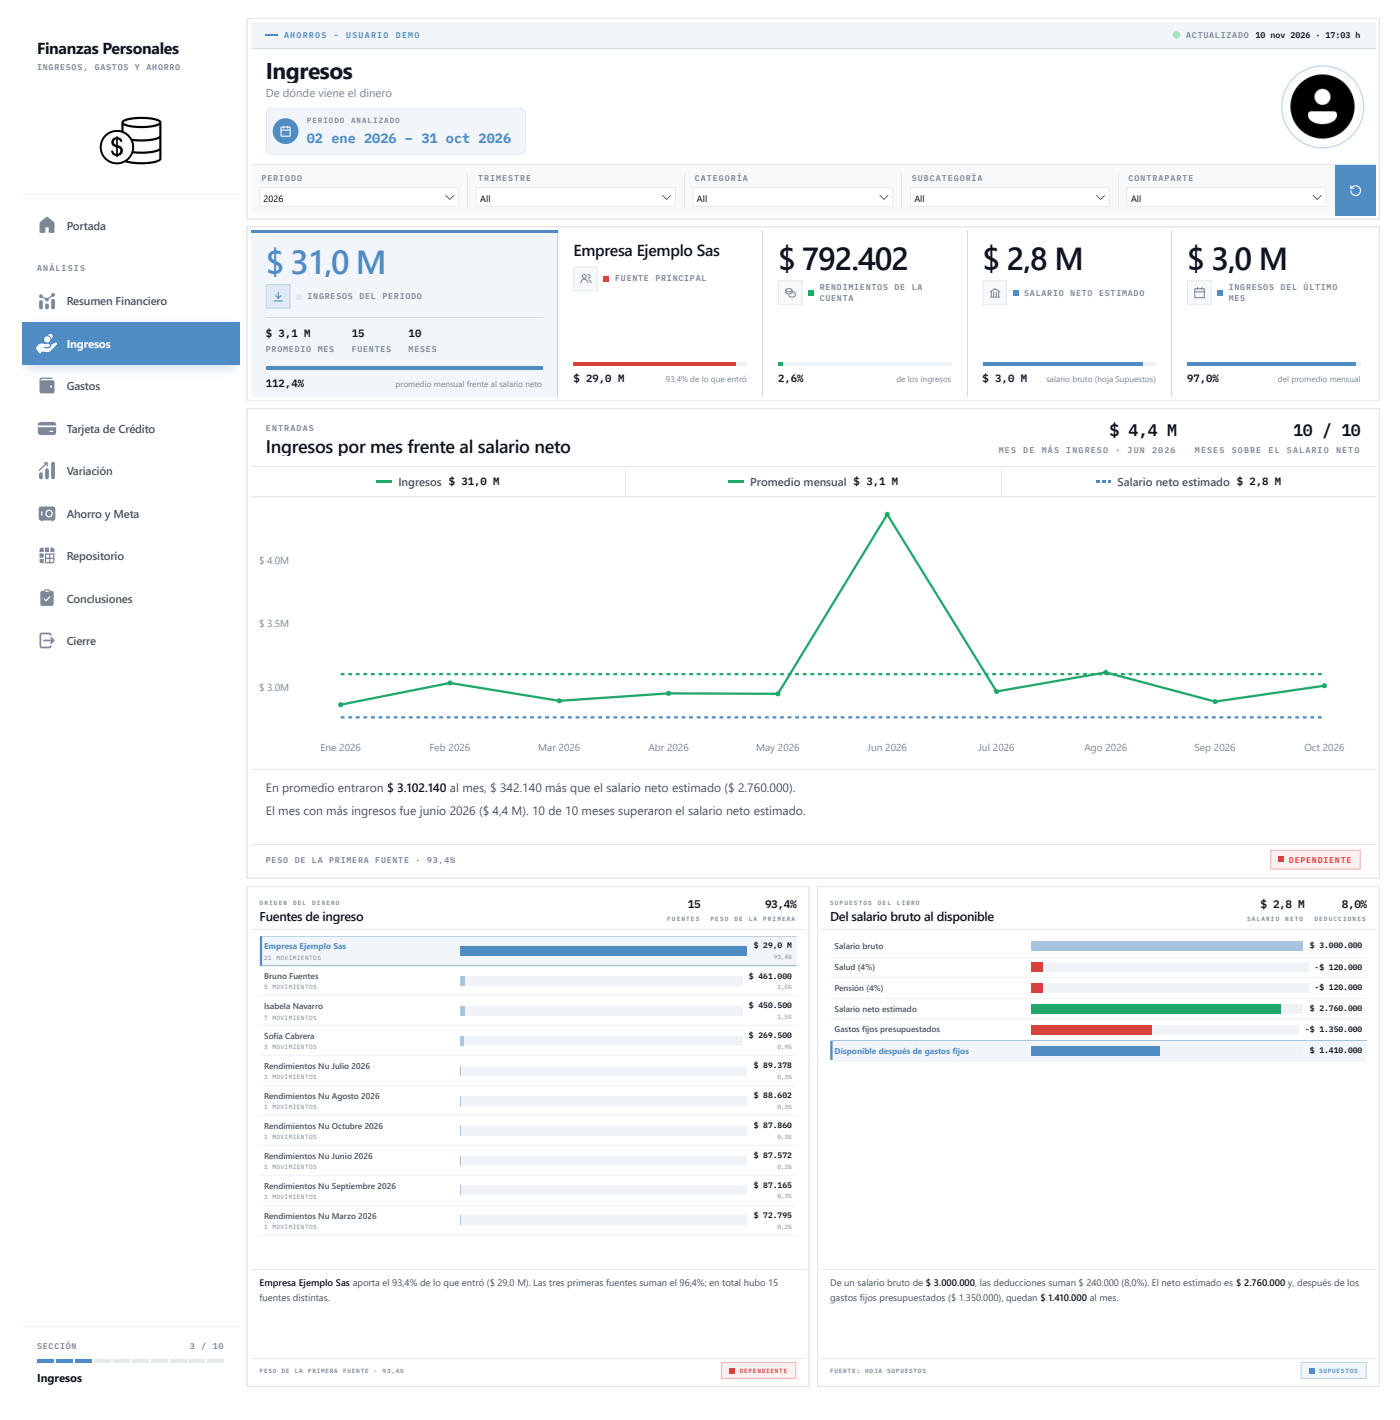

What the dashboard file says about the page in this screenshot:
{"tool":"powerbi","page":{"name":"Ingresos","canvas":[1800,1825],"ordinal":2},"visuals":[{"type":"shape","title":"Contenedor","box":[302,0,1495,265],"z":1010},{"type":"shape","title":"Contenedor","box":[302,275,1495,230],"z":1020},{"type":"shape","title":"Contenedor","box":[302,515,1495,620],"z":1030},{"type":"shape","title":"Contenedor","box":[302,1145,742,660],"z":1040},{"type":"shape","title":"Contenedor","box":[1055,1145,742,660],"z":1050},{"type":"htmlContent443BE3AD55E043BF878BED274D3A6855","fields":{"content":["Medidas.NAV Rail Vertical HTML"]},"box":[0,0,297,1825],"z":2010},{"type":"htmlContent443BE3AD55E043BF878BED274D3A6855","fields":{"content":["Medidas.NAV Banner Filtros HTML"]},"box":[302,0,1495,265],"z":2020},{"type":"htmlContent443BE3AD55E043BF878BED274D3A6855","fields":{"content":["Medidas.ING KPI Cards HTML"]},"box":[302,275,1495,230],"z":2030},{"type":"htmlContent443BE3AD55E043BF878BED274D3A6855","fields":{"content":["Medidas.ING Ingresos Mensuales Marco HTML"]},"box":[302,515,1495,470],"z":2040},{"type":"htmlContent443BE3AD55E043BF878BED274D3A6855","fields":{"content":["Medidas.ING Ingresos Mensuales Texto HTML"]},"box":[302,985,1495,150],"z":2050},{"type":"htmlContent443BE3AD55E043BF878BED274D3A6855","fields":{"content":["Medidas.ING Fuentes de Ingreso HTML"]},"box":[302,1145,742,660],"z":2060},{"type":"htmlContent443BE3AD55E043BF878BED274D3A6855","fields":{"content":["Medidas.ING Salario Bruto a Neto HTML"]},"box":[1055,1145,742,660],"z":2070},{"type":"lineChart","fields":{"Category":["Calendario.Mes Año"],"Y":["Medidas.Serie Ingresos","Medidas.Serie Ingreso Promedio","Medidas.Serie Salario Neto"]},"box":[312,635,1475,345],"z":3010},{"type":"slicer","fields":{"Values":["Calendario.Año","Calendario.Mes"]},"box":[308,212.9,284.2,58.6],"z":5010},{"type":"slicer","fields":{"Values":["Calendario.Trimestre Año"]},"box":[594.2,212.9,284.2,58.6],"z":5020},{"type":"slicer","fields":{"Values":["Categorias.Categoría"]},"box":[880.4,212.9,284.2,58.6],"z":5030},{"type":"slicer","fields":{"Values":["Categorias.Subcategoría"]},"box":[1166.6,212.9,284.2,58.6],"z":5040},{"type":"slicer","fields":{"Values":["Movimientos.Contraparte"]},"box":[1452.8,212.9,284.2,58.6],"z":5050},{"type":"shape","box":[0,0,297,245],"z":6010},{"type":"shape","box":[0,301,297,44],"z":6020},{"type":"shape","box":[0,849,297,976],"z":6030},{"type":"shape","box":[285,0,12,1825],"z":6040},{"type":"shape","box":[302,0,1495,193],"z":6050},{"type":"actionButton","box":[1738,193,54,67],"z":7010},{"type":"actionButton","box":[0,245,285,56],"z":7020},{"type":"actionButton","box":[0,345,285,56],"z":7030},{"type":"actionButton","box":[0,401,285,56],"z":7040},{"type":"actionButton","box":[0,457,285,56],"z":7050},{"type":"actionButton","box":[0,513,285,56],"z":7060},{"type":"actionButton","box":[0,569,285,56],"z":7070},{"type":"actionButton","box":[0,625,285,56],"z":7070},{"type":"actionButton","box":[0,681,285,56],"z":7080},{"type":"actionButton","box":[0,737,285,56],"z":7090},{"type":"actionButton","box":[0,793,285,56],"z":7100}]}

Visuals, with their boxes in screenshot pixels (x1, y1, x2, y2), scaled from the page's 1800x1825 canvas onto the 1400x1420 screenshot:
"Contenedor" shape: (235, 0, 1398, 206)
"Contenedor" shape: (235, 214, 1398, 393)
"Contenedor" shape: (235, 401, 1398, 883)
"Contenedor" shape: (235, 891, 812, 1404)
"Contenedor" shape: (821, 891, 1398, 1404)
htmlContent443BE3AD55E043BF878BED274D3A6855 - Medidas.NAV Rail Vertical HTML: (0, 0, 231, 1419)
htmlContent443BE3AD55E043BF878BED274D3A6855 - Medidas.NAV Banner Filtros HTML: (235, 0, 1398, 206)
htmlContent443BE3AD55E043BF878BED274D3A6855 - Medidas.ING KPI Cards HTML: (235, 214, 1398, 393)
htmlContent443BE3AD55E043BF878BED274D3A6855 - Medidas.ING Ingresos Mensuales Marco HTML: (235, 401, 1398, 766)
htmlContent443BE3AD55E043BF878BED274D3A6855 - Medidas.ING Ingresos Mensuales Texto HTML: (235, 766, 1398, 883)
htmlContent443BE3AD55E043BF878BED274D3A6855 - Medidas.ING Fuentes de Ingreso HTML: (235, 891, 812, 1404)
htmlContent443BE3AD55E043BF878BED274D3A6855 - Medidas.ING Salario Bruto a Neto HTML: (821, 891, 1398, 1404)
lineChart - Calendario.Mes Año x Medidas.Serie Ingresos: (243, 494, 1390, 763)
slicer - Calendario.Año x Calendario.Mes: (240, 166, 461, 211)
slicer - Calendario.Trimestre Año: (462, 166, 683, 211)
slicer - Categorias.Categoría: (685, 166, 906, 211)
slicer - Categorias.Subcategoría: (907, 166, 1128, 211)
slicer - Movimientos.Contraparte: (1130, 166, 1351, 211)
shape: (0, 0, 231, 191)
shape: (0, 234, 231, 268)
shape: (0, 661, 231, 1419)
shape: (222, 0, 231, 1419)
shape: (235, 0, 1398, 150)
actionButton: (1352, 150, 1394, 202)
actionButton: (0, 191, 222, 234)
actionButton: (0, 268, 222, 312)
actionButton: (0, 312, 222, 356)
actionButton: (0, 356, 222, 399)
actionButton: (0, 399, 222, 443)
actionButton: (0, 443, 222, 486)
actionButton: (0, 486, 222, 530)
actionButton: (0, 530, 222, 573)
actionButton: (0, 573, 222, 617)
actionButton: (0, 617, 222, 661)
